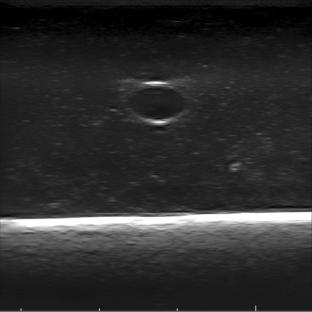vessel: (126, 80, 190, 125)
